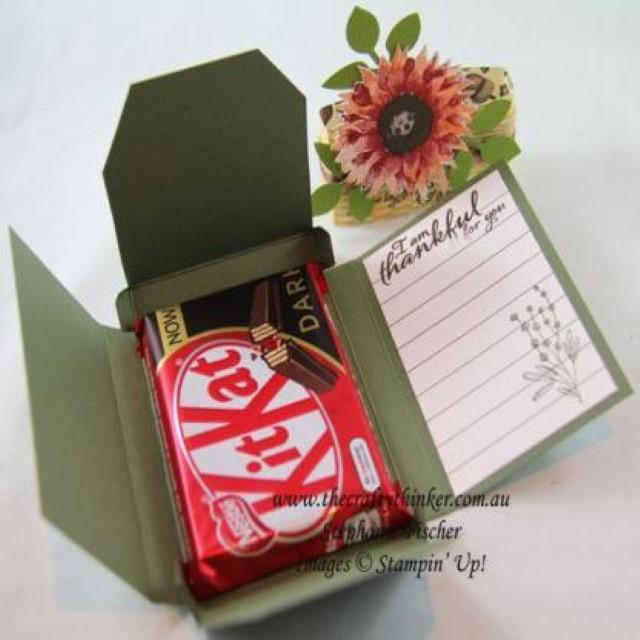kitkat_chocolate: (152, 284, 412, 588)
